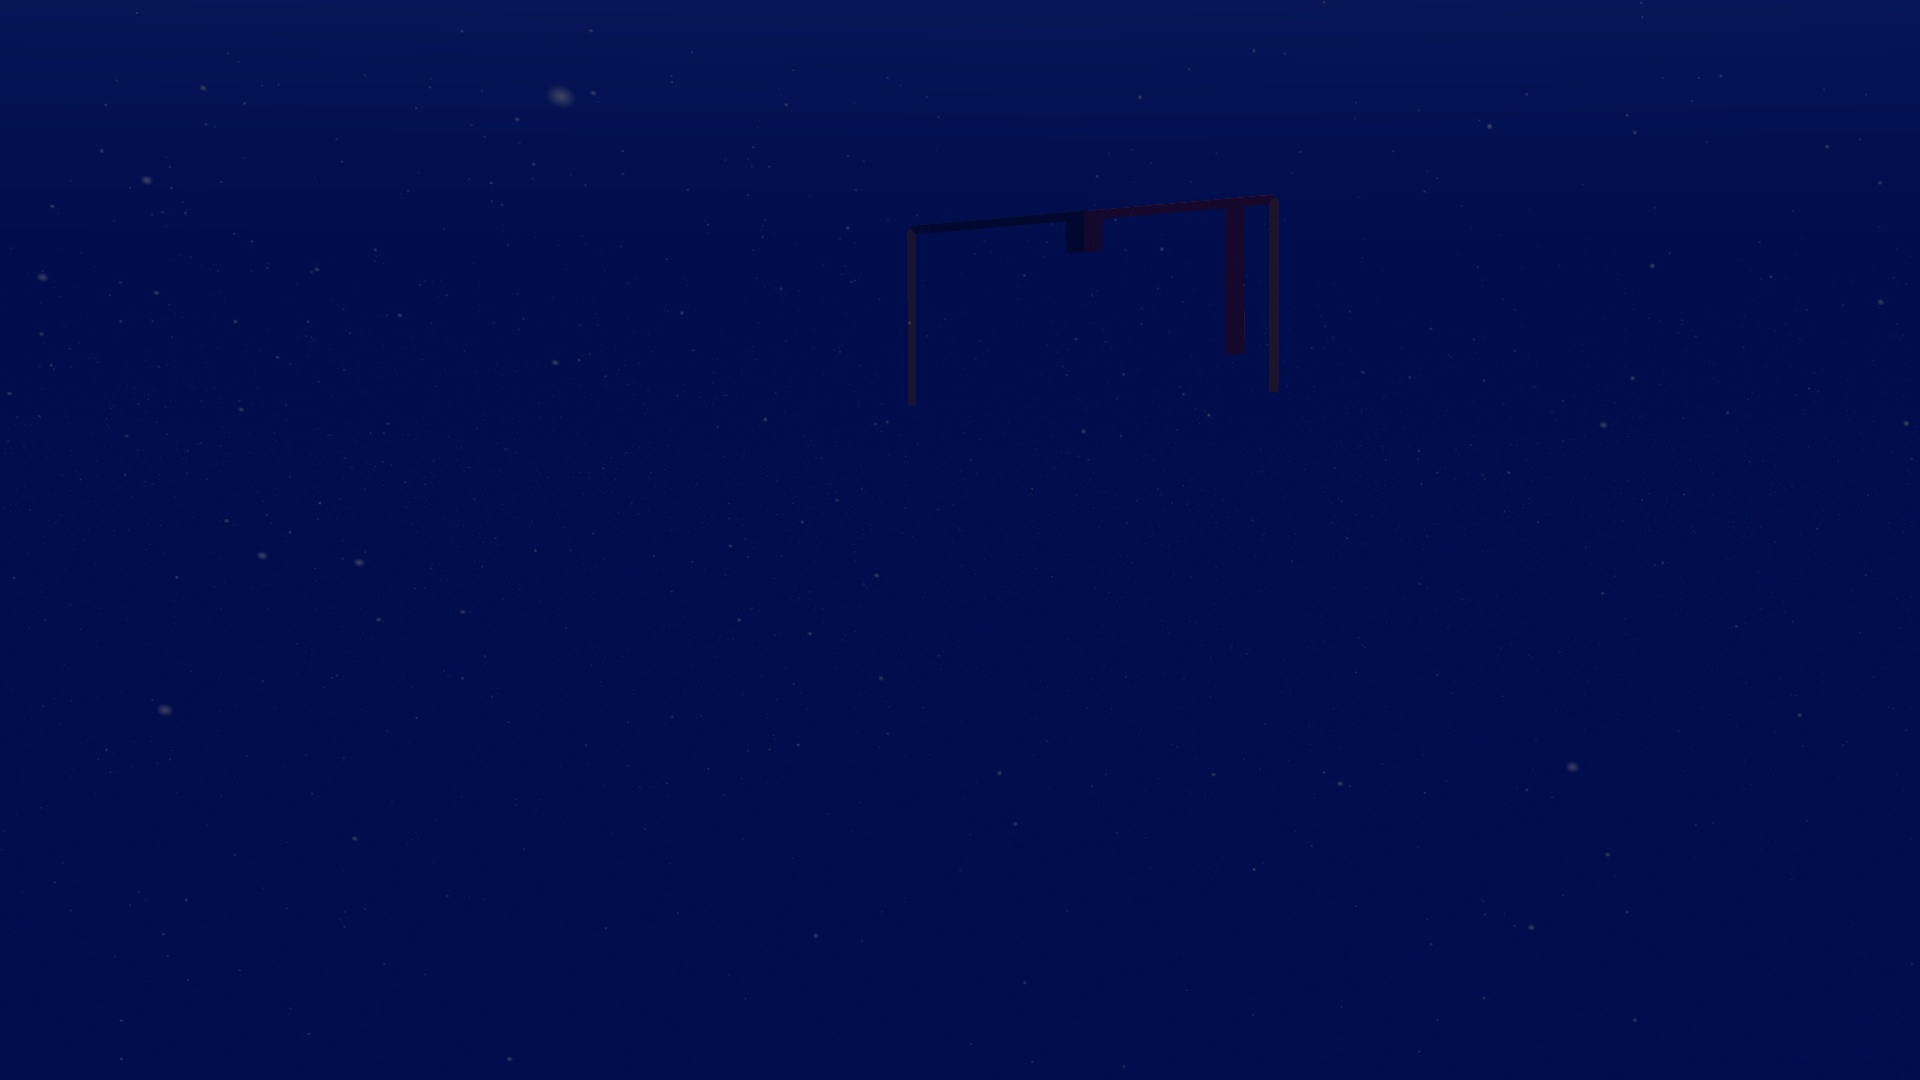Gate: (897, 189, 1291, 413)
